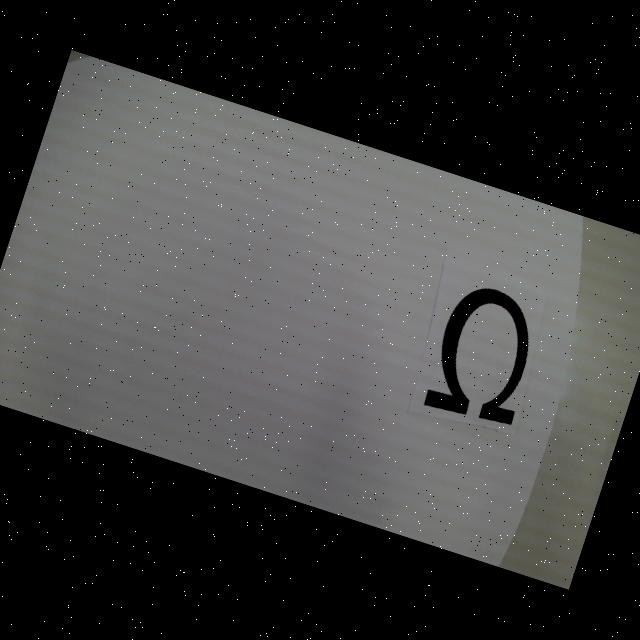OMEGA: (420, 279, 549, 434)
